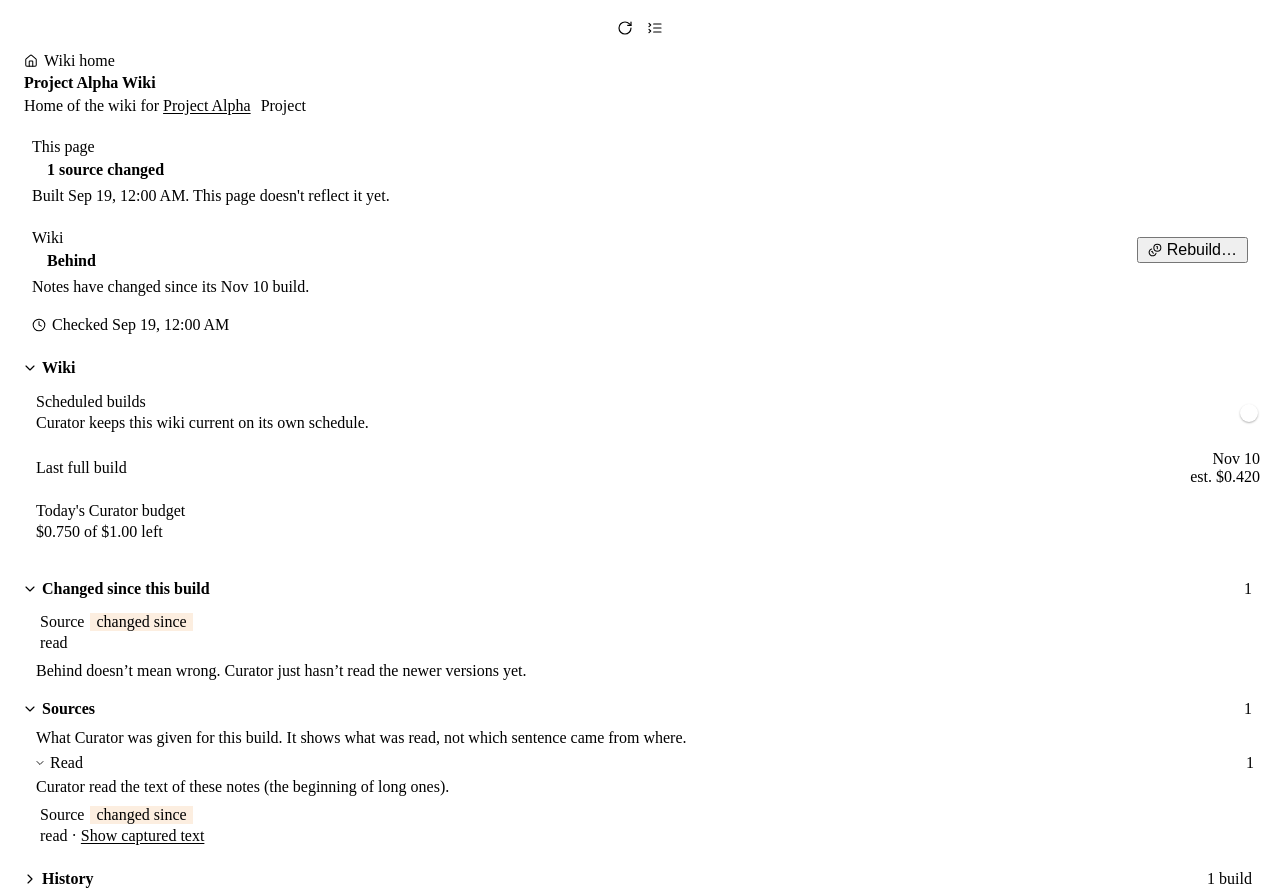
Test: the wiki card on a project wiki page (#545) › pauses and resumes the wiki through the control API, then reads the home again
This screenshot has width=1280, height=894.
Click the switch named "Scheduled builds". click: [1240, 414]
box: [1220,402,1260,424]
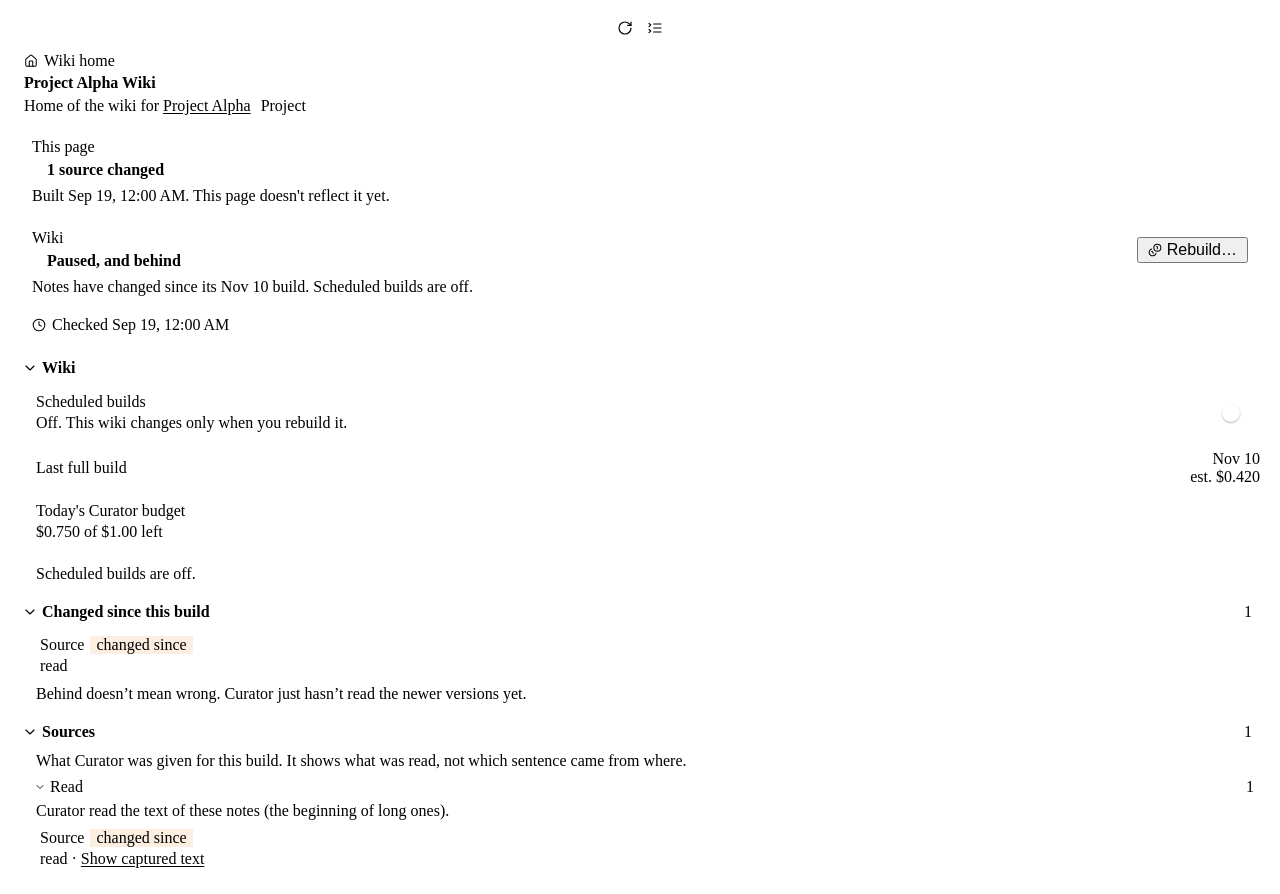
Now the text "Off. This wiki changes only when you rebuild it." is shown, box [36,414,347,431]
Now the text "Scheduled builds are off." is shown, box [36,564,196,582]
The home's status is read again: the Curator stamps paused on it.
Click the switch named "Scheduled builds". click: [1240, 414]
box: [1220,402,1260,424]
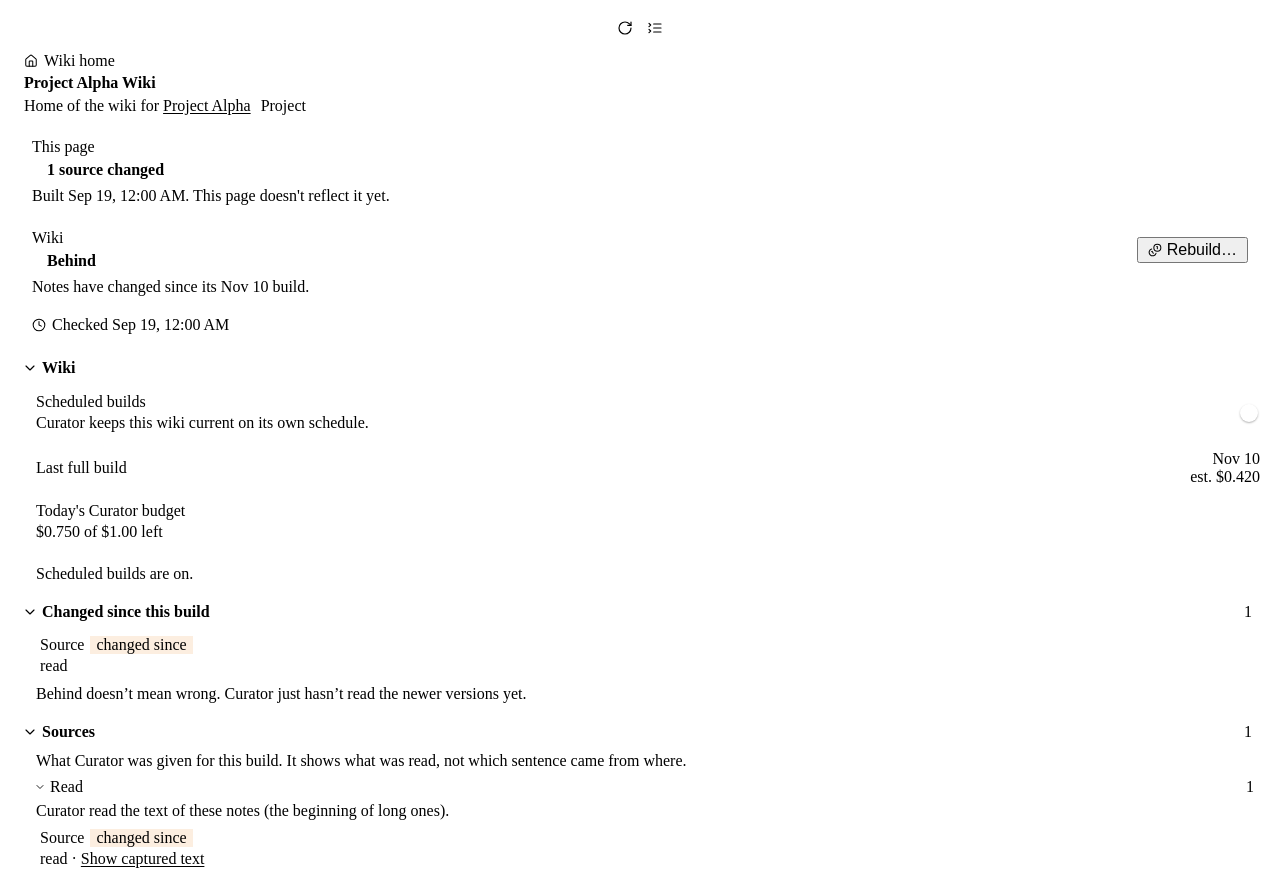
Now the switch named "Scheduled builds" is checked, box [1220,402,1260,424]
